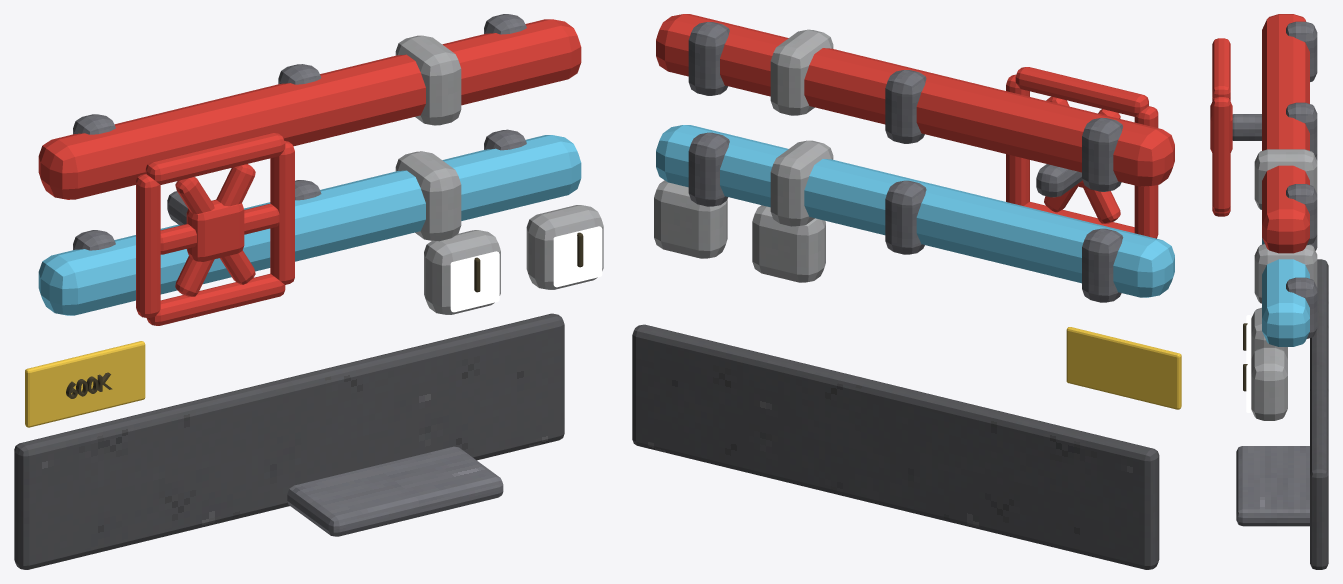
The model's file is decor_eng_pipe_manifold.glb.
3 renders of one model, left to right at view 1: azimuth 30°, elevation 25°; view 2: azimuth 150°, elevation 25°; view 3: azimuth 270°, elevation 25°, orthographic. The views are drawn at different scales.
Visible parts, largest first — view 1: DEC_EngPipeManifold__Mount_Plate, DEC_EngPipeManifold__Pipe_Run_1, DEC_EngPipeManifold__Pipe_Run_2, DEC_EngPipeManifold__Drip_Tray, DEC_EngPipeManifold__Hazard_Tag, DEC_EngPipeManifold__Pipe_Flange_1, DEC_EngPipeManifold__Pipe_Flange_2, DEC_EngPipeManifold__Valve_Rim_3, DEC_EngPipeManifold__Valve_Rim_1, DEC_EngPipeManifold__Gauge_Body_2, DEC_EngPipeManifold__Gauge_Body_1, DEC_EngPipeManifold__Valve_Rim_2 (+7 smaller); view 2: DEC_EngPipeManifold__Mount_Plate, DEC_EngPipeManifold__Pipe_Run_2, DEC_EngPipeManifold__Pipe_Run_1, DEC_EngPipeManifold__Hazard_Tag, DEC_EngPipeManifold__Gauge_Body_2, DEC_EngPipeManifold__Gauge_Body_1, DEC_EngPipeManifold__Pipe_Flange_1, DEC_EngPipeManifold__Pipe_Flange_2, DEC_EngPipeManifold__Valve_Rim_1, DEC_EngPipeManifold__Pipe_Bracket_2_3, DEC_EngPipeManifold__Pipe_Bracket_1_3, DEC_EngPipeManifold__Pipe_Bracket_2_2 (+7 smaller); view 3: DEC_EngPipeManifold__Pipe_Run_1, DEC_EngPipeManifold__Drip_Tray, DEC_EngPipeManifold__Mount_Plate, DEC_EngPipeManifold__Pipe_Run_2, DEC_EngPipeManifold__Gauge_Body_2, DEC_EngPipeManifold__Valve_Rim_4, DEC_EngPipeManifold__Pipe_Flange_1, DEC_EngPipeManifold__Pipe_Flange_2, DEC_EngPipeManifold__Valve_Rim_1, DEC_EngPipeManifold__Pipe_Bracket_2_3, DEC_EngPipeManifold__Pipe_Bracket_1_3, DEC_EngPipeManifold__Pipe_Bracket_1_1 (+6 smaller).
Part boxes in pixels (left/top/right/bottom): DEC_EngPipeManifold__Mount_Plate: left=14, top=313, right=564, bottom=569; DEC_EngPipeManifold__Pipe_Run_1: left=38, top=19, right=581, bottom=199; DEC_EngPipeManifold__Pipe_Run_2: left=38, top=135, right=581, bottom=315; DEC_EngPipeManifold__Drip_Tray: left=287, top=446, right=503, bottom=536; DEC_EngPipeManifold__Hazard_Tag: left=25, top=341, right=145, bottom=427; DEC_EngPipeManifold__Pipe_Flange_1: left=395, top=35, right=461, bottom=125; DEC_EngPipeManifold__Pipe_Flange_2: left=395, top=151, right=461, bottom=241; DEC_EngPipeManifold__Valve_Rim_3: left=136, top=174, right=160, bottom=317; DEC_EngPipeManifold__Valve_Rim_1: left=145, top=133, right=285, bottom=184; DEC_EngPipeManifold__Gauge_Body_2: left=526, top=205, right=603, bottom=289; DEC_EngPipeManifold__Gauge_Body_1: left=424, top=230, right=500, bottom=314; DEC_EngPipeManifold__Valve_Rim_2: left=146, top=274, right=285, bottom=325; DEC_EngPipeManifold__Mount_Plate: left=632, top=324, right=1159, bottom=569; DEC_EngPipeManifold__Pipe_Run_2: left=656, top=125, right=1174, bottom=297; DEC_EngPipeManifold__Pipe_Run_1: left=656, top=14, right=1174, bottom=186; DEC_EngPipeManifold__Hazard_Tag: left=1066, top=327, right=1181, bottom=409; DEC_EngPipeManifold__Gauge_Body_2: left=654, top=180, right=727, bottom=258; DEC_EngPipeManifold__Gauge_Body_1: left=752, top=205, right=825, bottom=282; DEC_EngPipeManifold__Pipe_Flange_1: left=770, top=29, right=833, bottom=115; DEC_EngPipeManifold__Pipe_Flange_2: left=770, top=140, right=833, bottom=226; DEC_EngPipeManifold__Valve_Rim_1: left=1015, top=67, right=1148, bottom=116; DEC_EngPipeManifold__Pipe_Bracket_2_3: left=688, top=132, right=729, bottom=206; DEC_EngPipeManifold__Pipe_Bracket_1_3: left=688, top=22, right=729, bottom=95; DEC_EngPipeManifold__Pipe_Bracket_2_2: left=885, top=180, right=926, bottom=254; DEC_EngPipeManifold__Pipe_Run_1: left=1262, top=14, right=1309, bottom=253; DEC_EngPipeManifold__Drip_Tray: left=1236, top=446, right=1309, bottom=526; DEC_EngPipeManifold__Mount_Plate: left=1310, top=259, right=1328, bottom=569; DEC_EngPipeManifold__Pipe_Run_2: left=1262, top=238, right=1309, bottom=346; DEC_EngPipeManifold__Gauge_Body_2: left=1251, top=347, right=1287, bottom=420; DEC_EngPipeManifold__Valve_Rim_4: left=1212, top=97, right=1230, bottom=212; DEC_EngPipeManifold__Pipe_Flange_1: left=1254, top=149, right=1317, bottom=209; DEC_EngPipeManifold__Pipe_Flange_2: left=1254, top=244, right=1317, bottom=303; DEC_EngPipeManifold__Valve_Rim_1: left=1212, top=38, right=1230, bottom=98; DEC_EngPipeManifold__Pipe_Bracket_2_3: left=1286, top=277, right=1317, bottom=338; DEC_EngPipeManifold__Pipe_Bracket_1_3: left=1286, top=184, right=1317, bottom=245; DEC_EngPipeManifold__Pipe_Bracket_1_1: left=1286, top=21, right=1317, bottom=81.
Size of the model in its own units: 1.42 by 1.07 by 0.32.
Materials: 8 (3 with a texture image).
